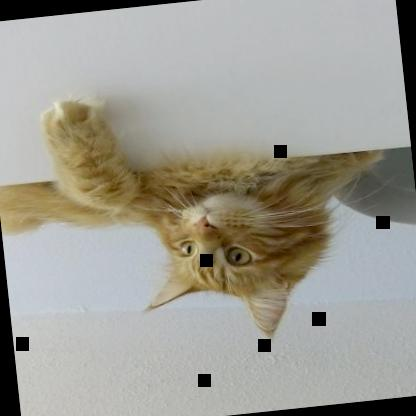cat: (0, 65, 397, 363)
